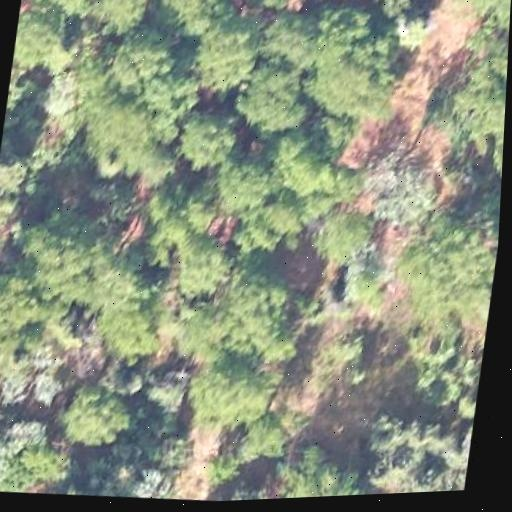tree-top: (8, 203, 163, 323), (418, 26, 509, 193), (383, 214, 500, 330), (303, 0, 402, 130), (355, 141, 448, 232), (191, 0, 268, 97), (179, 357, 277, 430), (235, 51, 316, 136), (278, 434, 384, 498), (81, 90, 153, 182), (53, 375, 138, 452), (0, 412, 74, 497), (251, 0, 328, 77), (224, 271, 290, 359), (103, 22, 181, 96), (11, 0, 81, 81), (168, 95, 239, 173), (169, 230, 240, 304), (90, 304, 168, 370), (137, 61, 196, 147), (205, 153, 284, 217), (374, 419, 442, 491), (308, 201, 376, 267), (280, 136, 342, 202), (235, 411, 297, 473), (0, 267, 47, 338), (343, 247, 388, 309), (388, 0, 438, 54), (154, 0, 228, 32), (89, 0, 154, 34), (461, 0, 511, 34), (38, 0, 105, 18)
